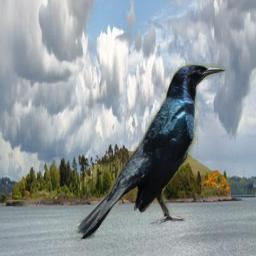Crow: (73, 62, 227, 242)
